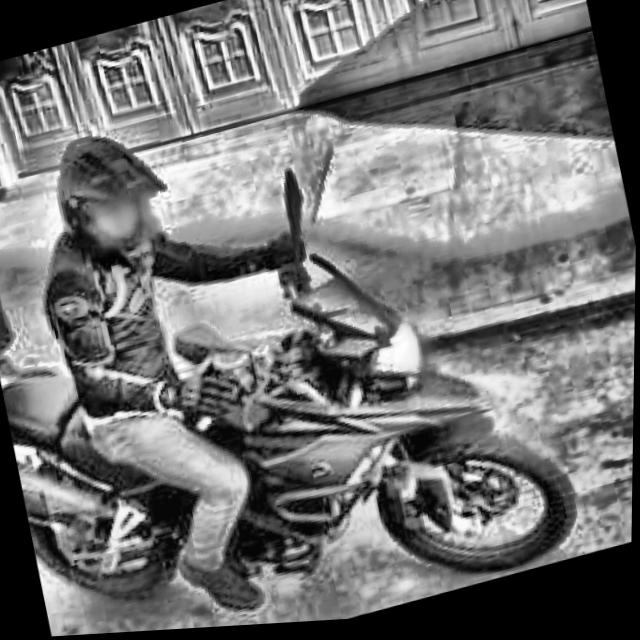motorcycle: (0, 102, 602, 640)
